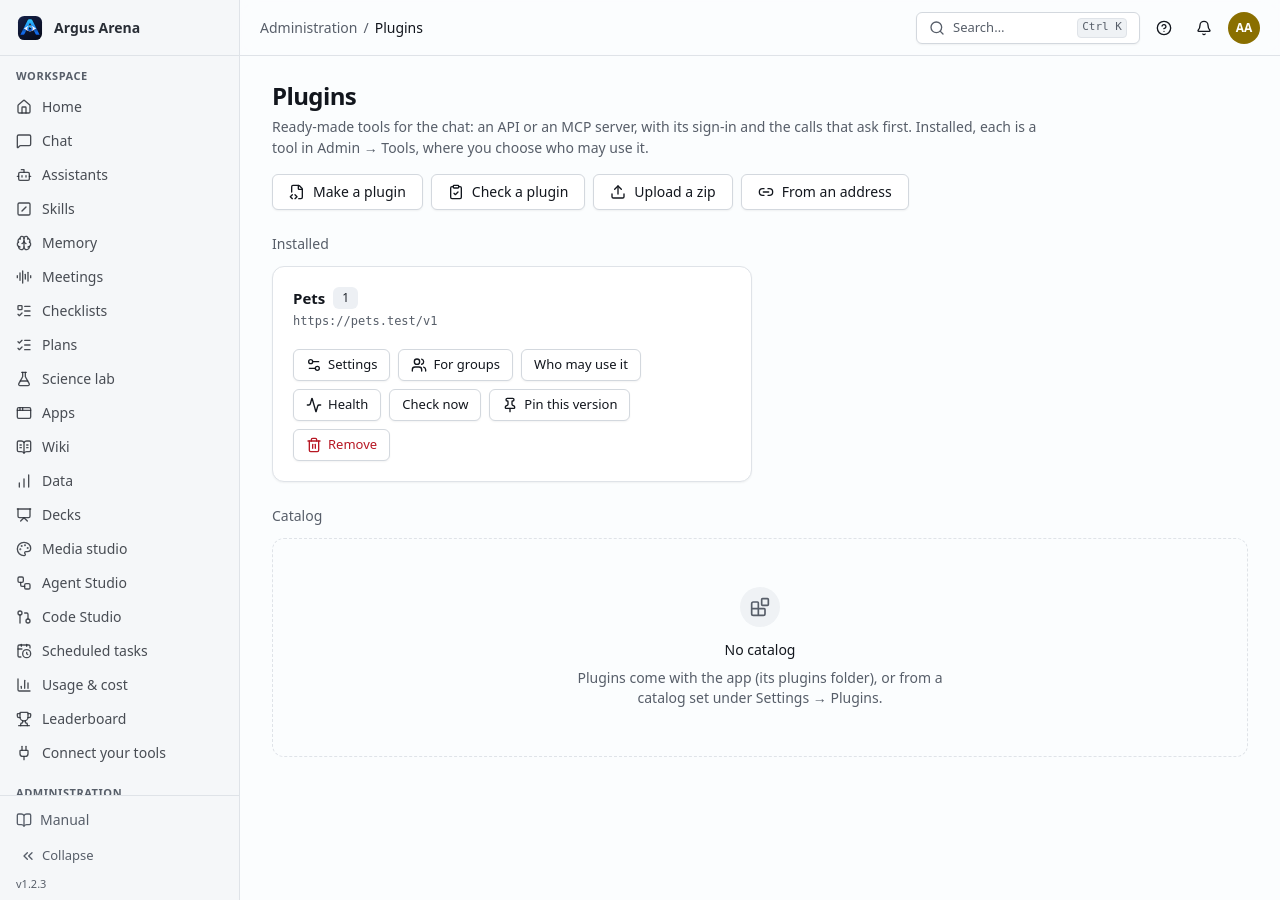
Test case: plugin settings for groups › gives a group its own key, the others keeping the plugin’s
This screenshot has width=1280, height=900.
Click the button "For groups" at (456, 365), box [398,349,513,381]
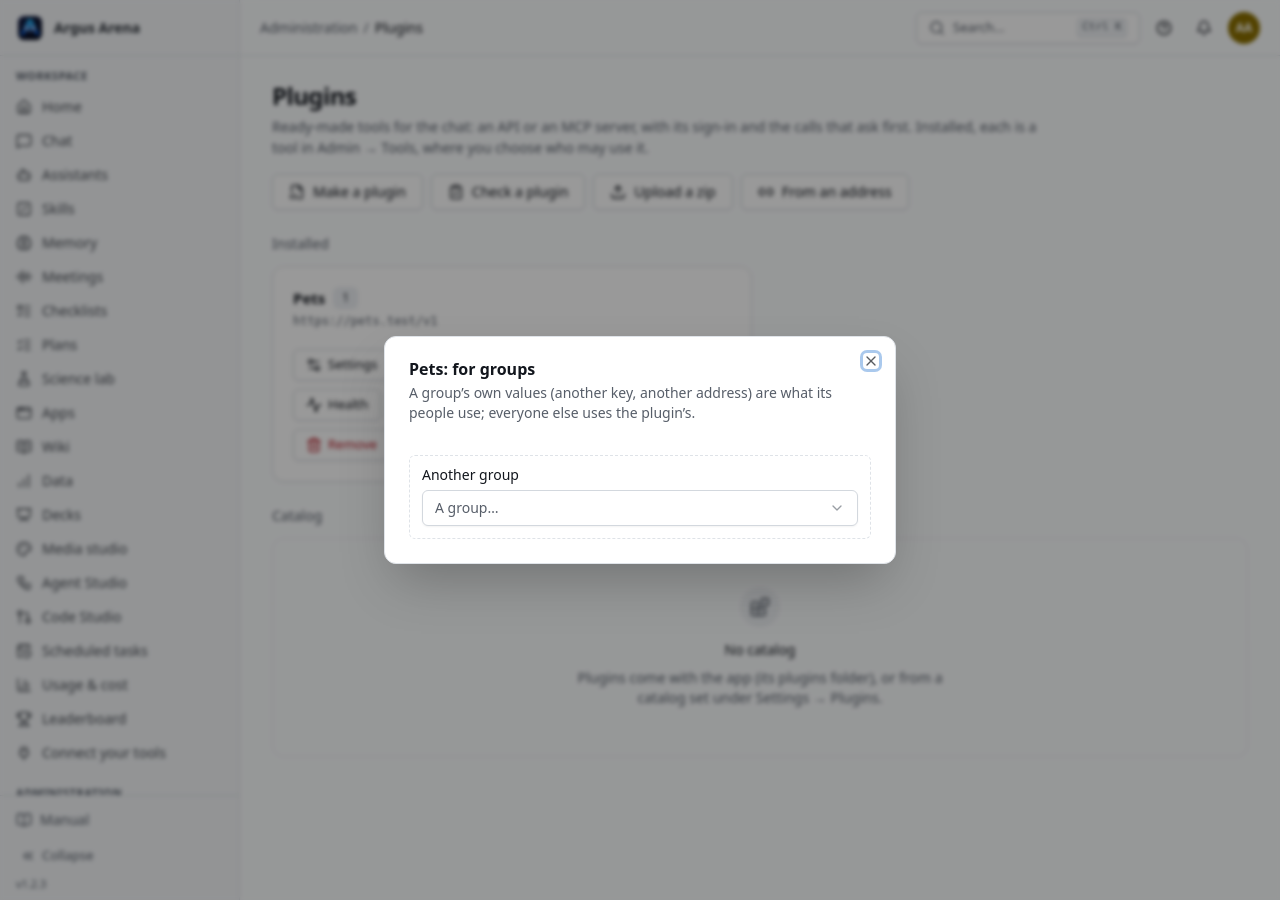
Click the dropdown named "Another group" at (467, 508), box [422,490,858,526]
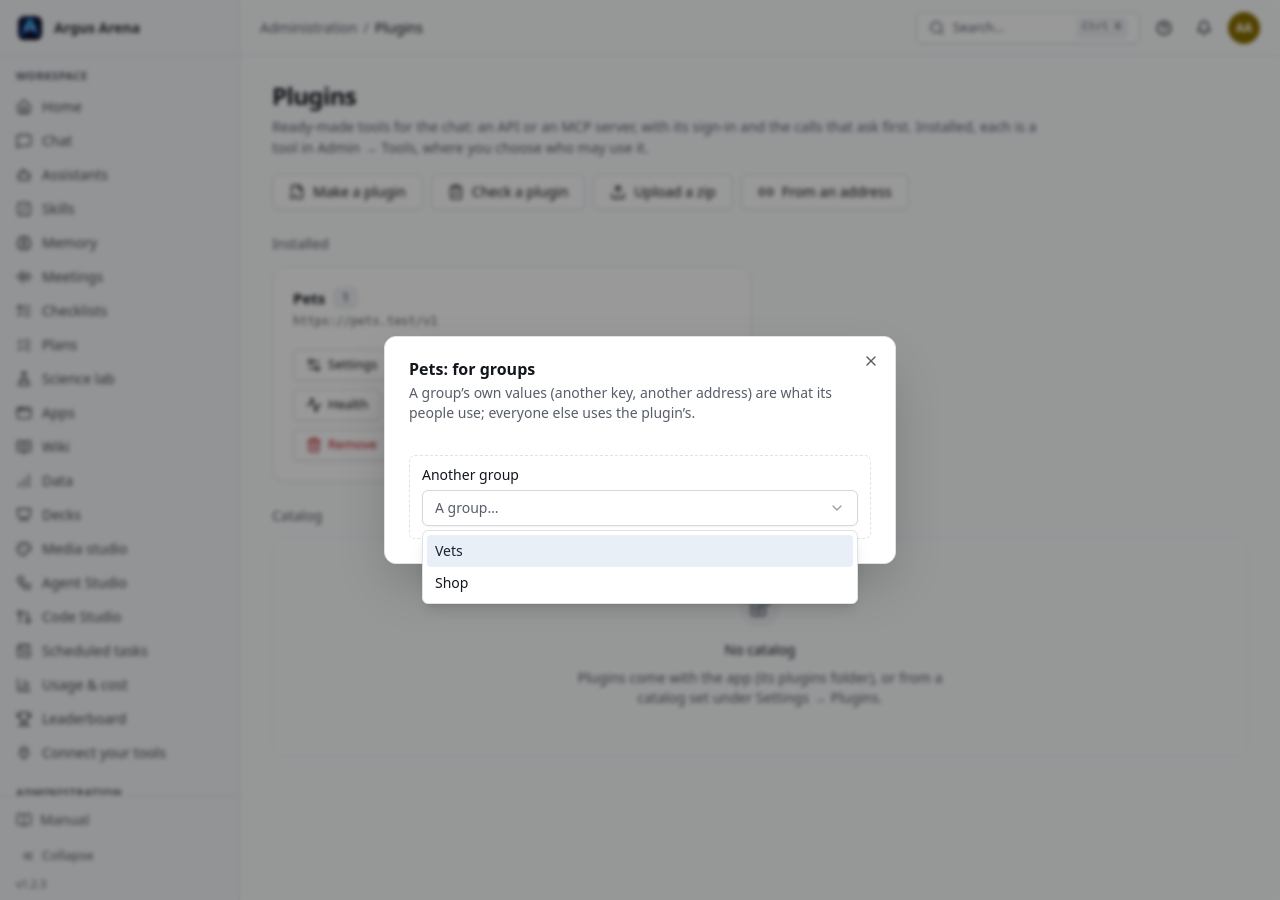
Click the option "Vets" at (449, 550), box [427,535,853,567]
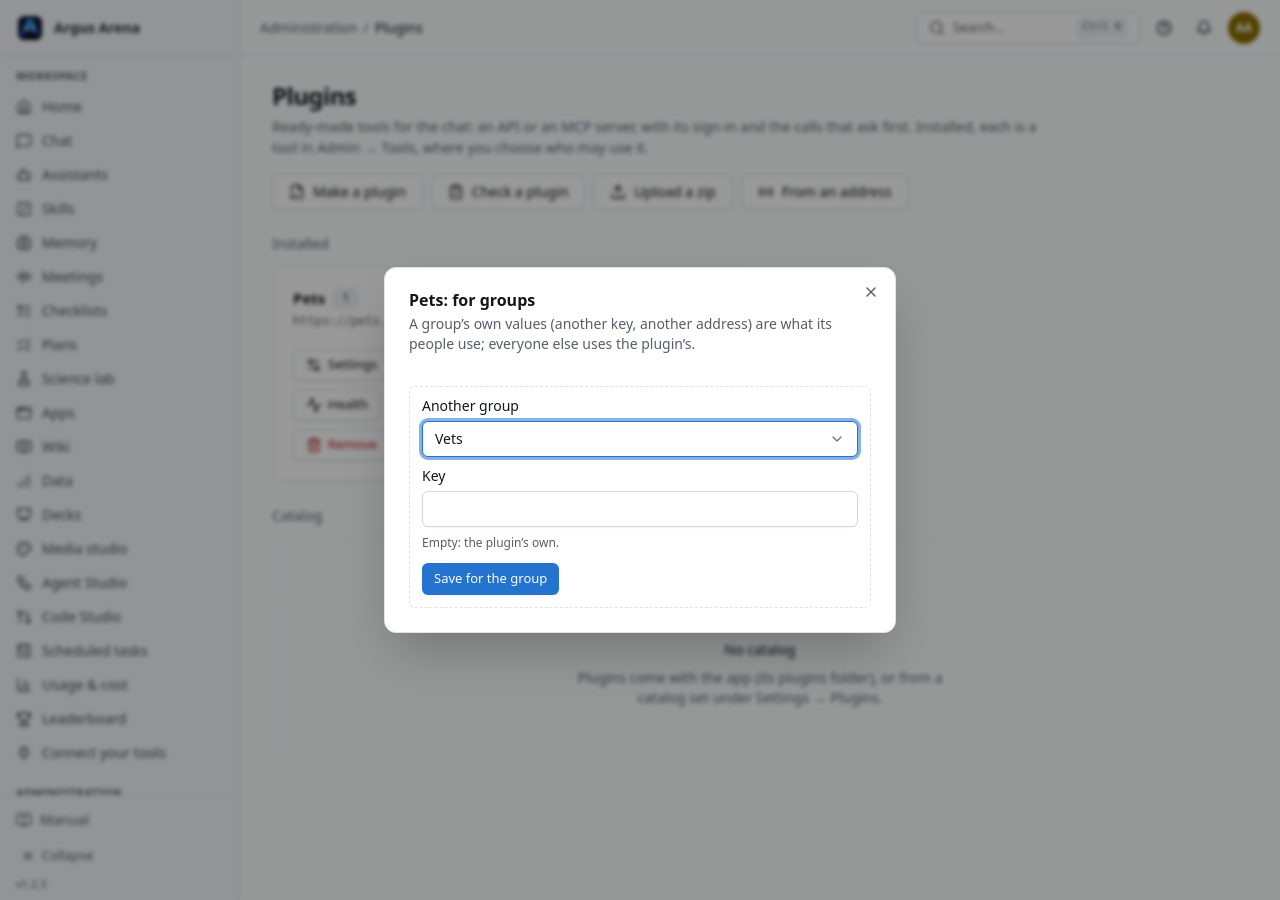
Type "vets-key" into the password field labelled "Key" at (640, 509), box [422,491,858,527]
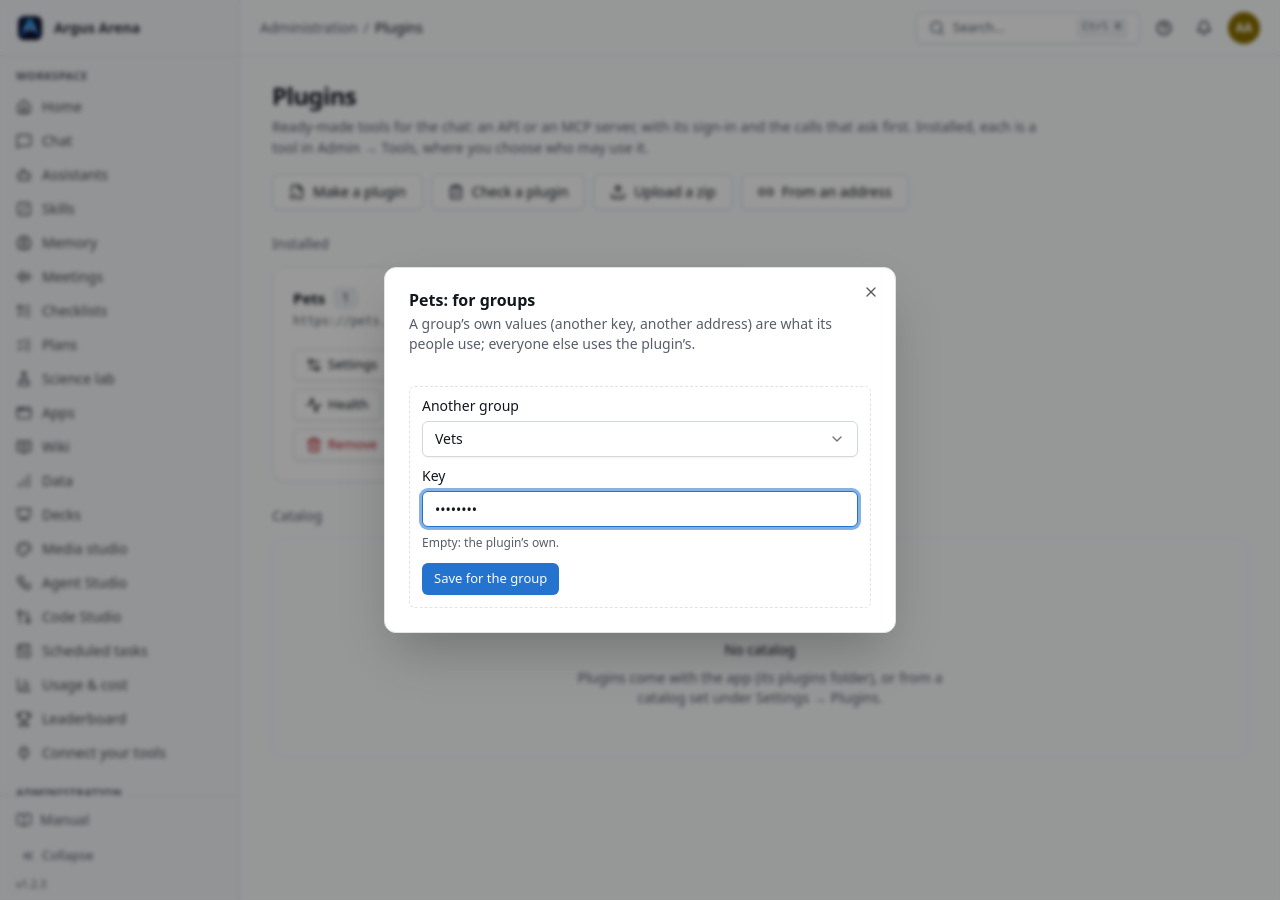
Click the button "Save for the group" at (491, 579), box [422,563,559,595]
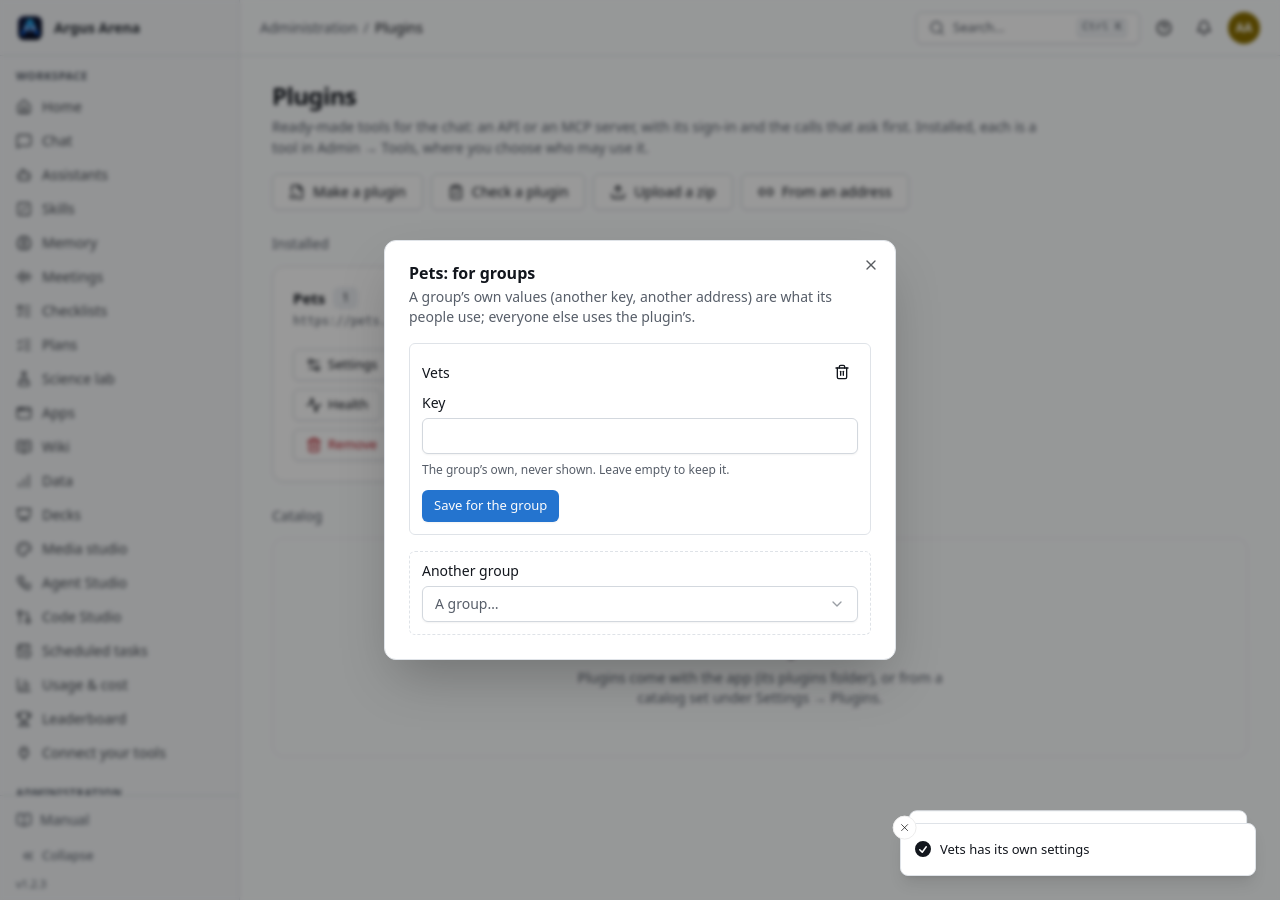
Check: the list named "Groups with their own settings" shows "Vets", box [422,362,450,382]
